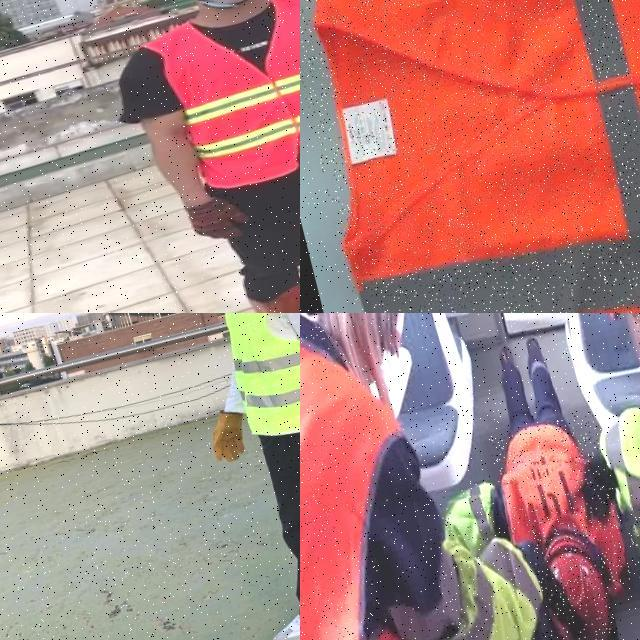boots: (263, 599, 300, 640)
helmet: (536, 524, 619, 640)
vest: (300, 0, 640, 313), (300, 313, 475, 640), (147, 0, 300, 197), (487, 410, 635, 610), (386, 530, 565, 640), (210, 313, 300, 442), (593, 393, 640, 547), (435, 478, 505, 554)
